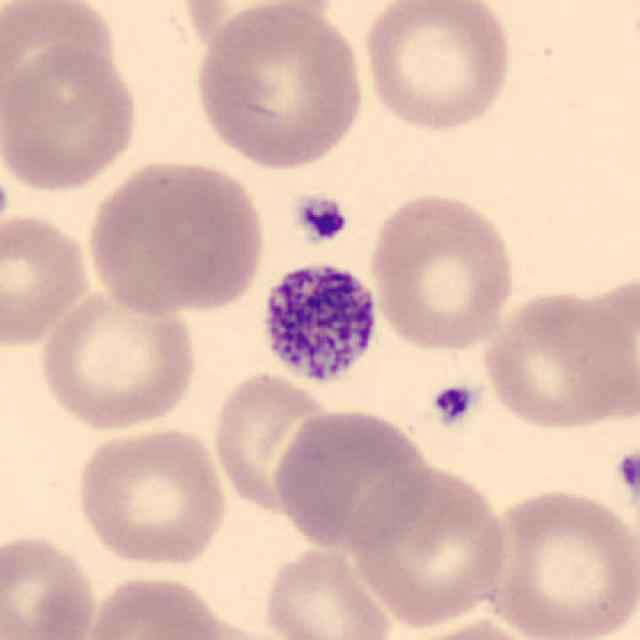Platelets: (254, 254, 384, 393), (292, 190, 352, 245), (428, 381, 480, 428), (612, 444, 638, 506)
RBC: (188, 2, 370, 173), (81, 156, 266, 318), (346, 460, 514, 628), (366, 189, 519, 354), (35, 284, 201, 434), (266, 404, 436, 550), (476, 485, 636, 640), (476, 284, 634, 432), (71, 422, 229, 570), (0, 42, 144, 194), (359, 0, 516, 134), (208, 365, 345, 515), (0, 0, 123, 115), (0, 208, 96, 353), (258, 541, 396, 640), (0, 529, 100, 640), (80, 571, 228, 640), (176, 0, 340, 58), (391, 615, 544, 640)
